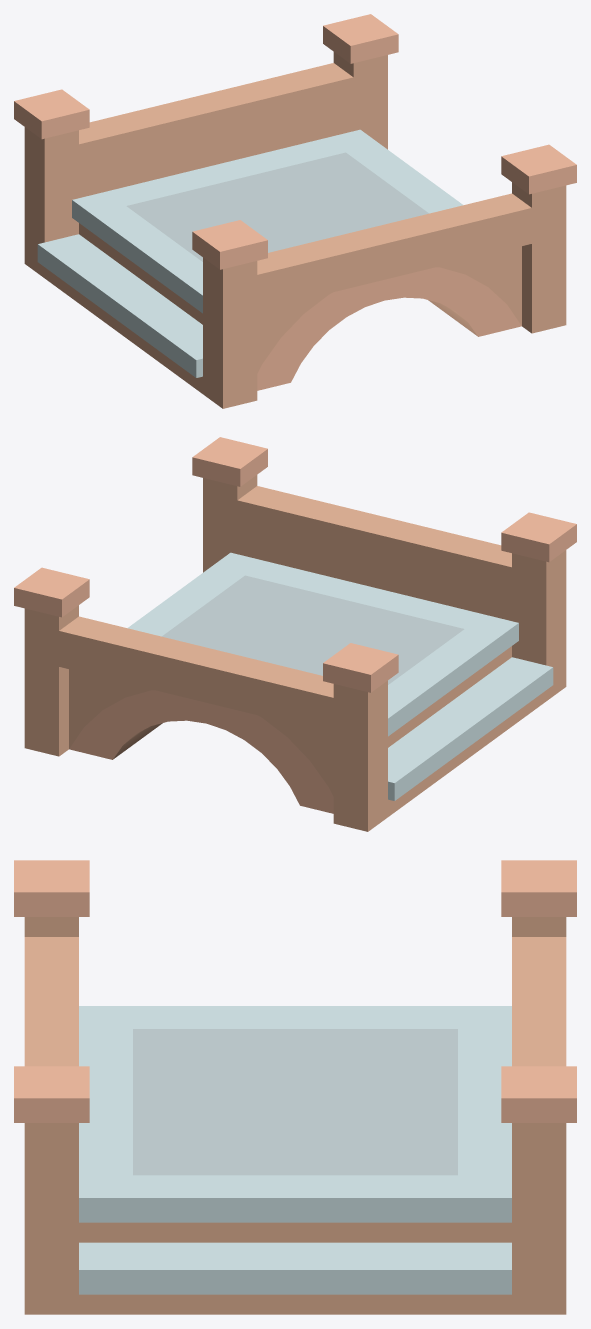
Rendered from bridge_woodRound.glb.
3 views of the same model, one above another, from view 1: azimuth 30°, elevation 25°; view 2: azimuth 150°, elevation 25°; view 3: azimuth 270°, elevation 25° (orthographic). The views are drawn at different scales.
Parts seen in each view (by area): view 1: bridge_woodRound; view 2: bridge_woodRound; view 3: bridge_woodRound.
Part boxes in pixels (box(x1,y1,x2,y2)): bridge_woodRound: box(14, 14, 576, 408); bridge_woodRound: box(14, 437, 576, 831); bridge_woodRound: box(14, 860, 576, 1314).
Size of the model in its own units: 1.04 by 0.45 by 1.04.
1 material, 1 textured.
